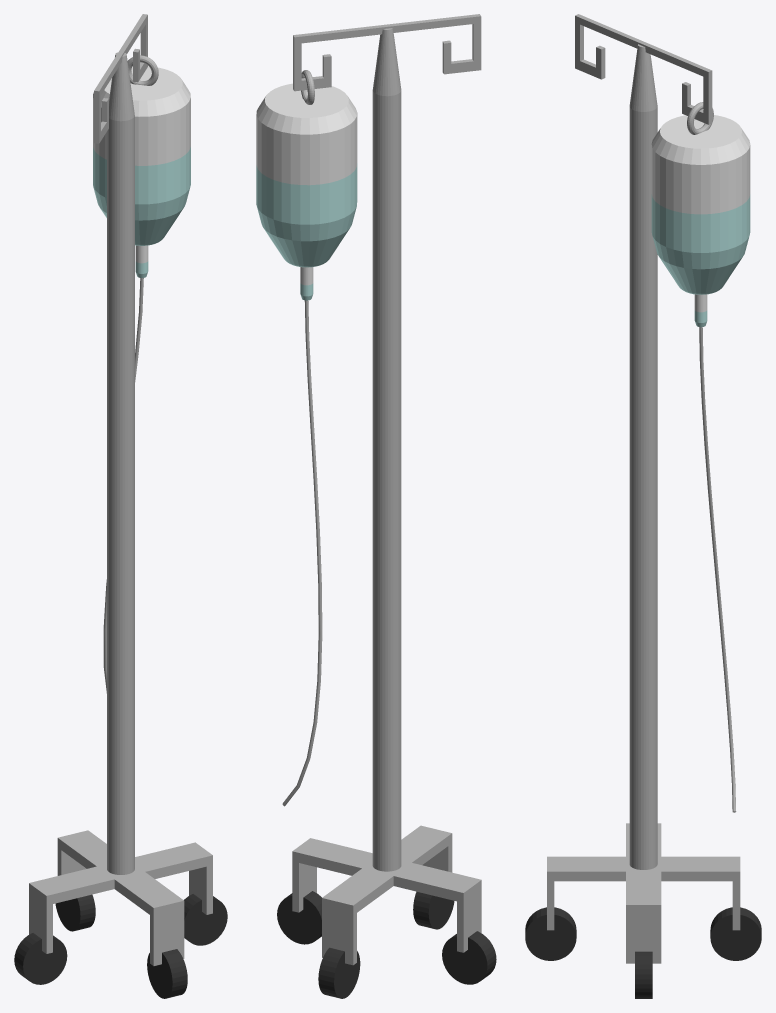
File: Ringer.fbx
3 views of the same model, side by side, from view 1: azimuth 30°, elevation 25°; view 2: azimuth 150°, elevation 25°; view 3: azimuth 270°, elevation 25° (orthographic). The views are drawn at different scales.
Visible parts, largest first — view 1: Cylinder.004, Cylinder.002, BezierCurve; view 2: Cylinder.004, Cylinder.002, BezierCurve; view 3: Cylinder.004, Cylinder.002, BezierCurve.
Boxes of the visible parts, box(x1,y1,x2,y2) form: Cylinder.004: box(14, 14, 227, 998); Cylinder.002: box(93, 55, 190, 277); BezierCurve: box(103, 278, 143, 693); Cylinder.004: box(277, 14, 496, 998); Cylinder.002: box(256, 70, 357, 300); BezierCurve: box(282, 300, 322, 806); Cylinder.004: box(525, 14, 761, 998); Cylinder.002: box(651, 102, 750, 327); BezierCurve: box(699, 327, 736, 812).
Bounding box in the file's own units: 160 × 678 × 159.
